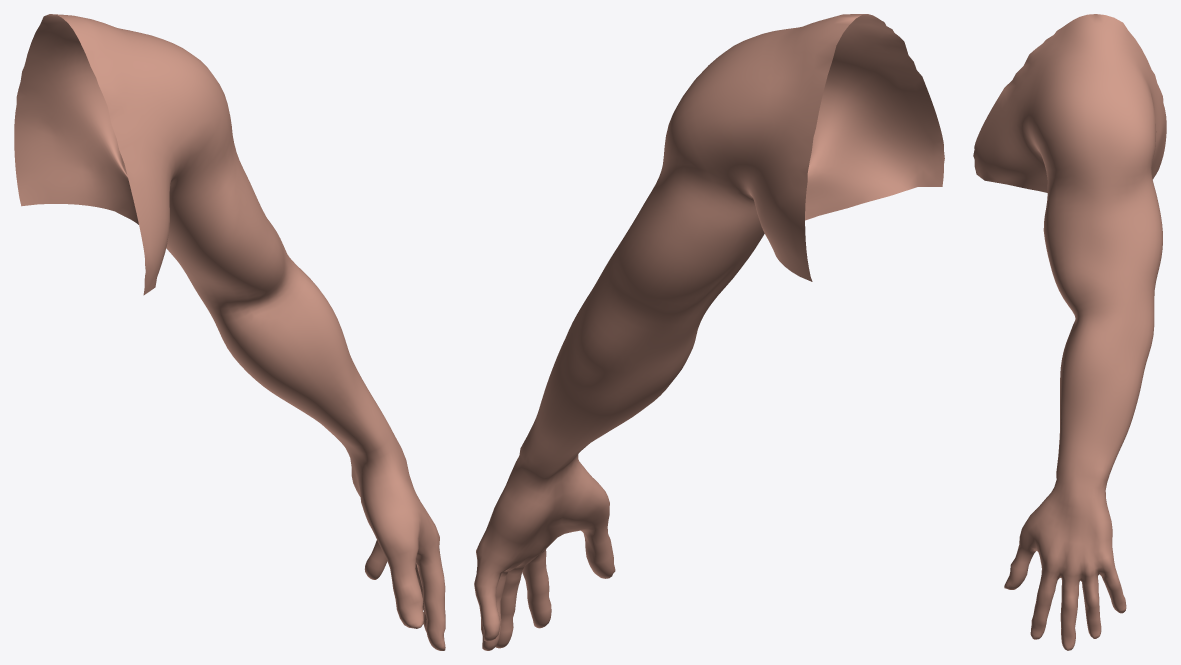
The model's file is Left_hand.fbx.
3 views of the same model, side by side, from view 1: azimuth 30°, elevation 25°; view 2: azimuth 150°, elevation 25°; view 3: azimuth 270°, elevation 25° (orthographic). The views are drawn at different scales.
Parts seen in each view (by area): view 1: Human hand Right; view 2: Human hand Right; view 3: Human hand Right.
Boxes of the visible parts, <box> form: Human hand Right: <box>14,14,445,650</box>; Human hand Right: <box>474,14,944,650</box>; Human hand Right: <box>973,14,1166,650</box>.
Bounding box in the file's own units: 0.4535 × 0.8355 × 0.2879.
1 material, 1 textured.
